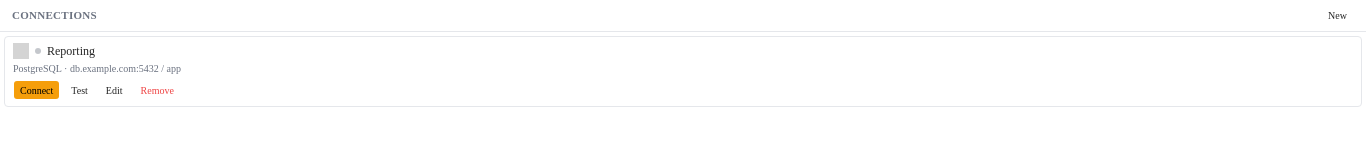
Test case: ConnectionManager › tests a saved profile using its stored secret
This screenshot has width=1366, height=160.
Expected: the text "Reporting" is shown, [47,44,95,58]
Click the button with aria-label "Test Reporting" at (80, 90), box [64,80,95,100]
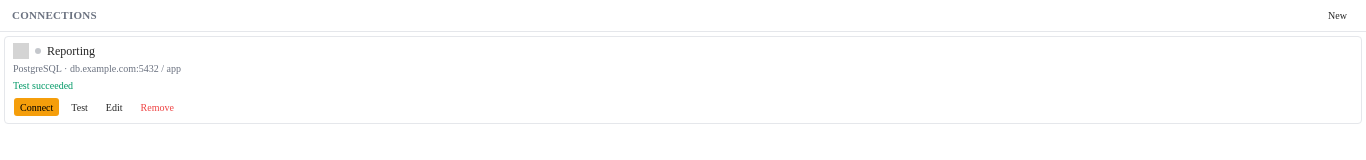
Now the text "Test succeeded" is shown, box [13,80,73,91]
